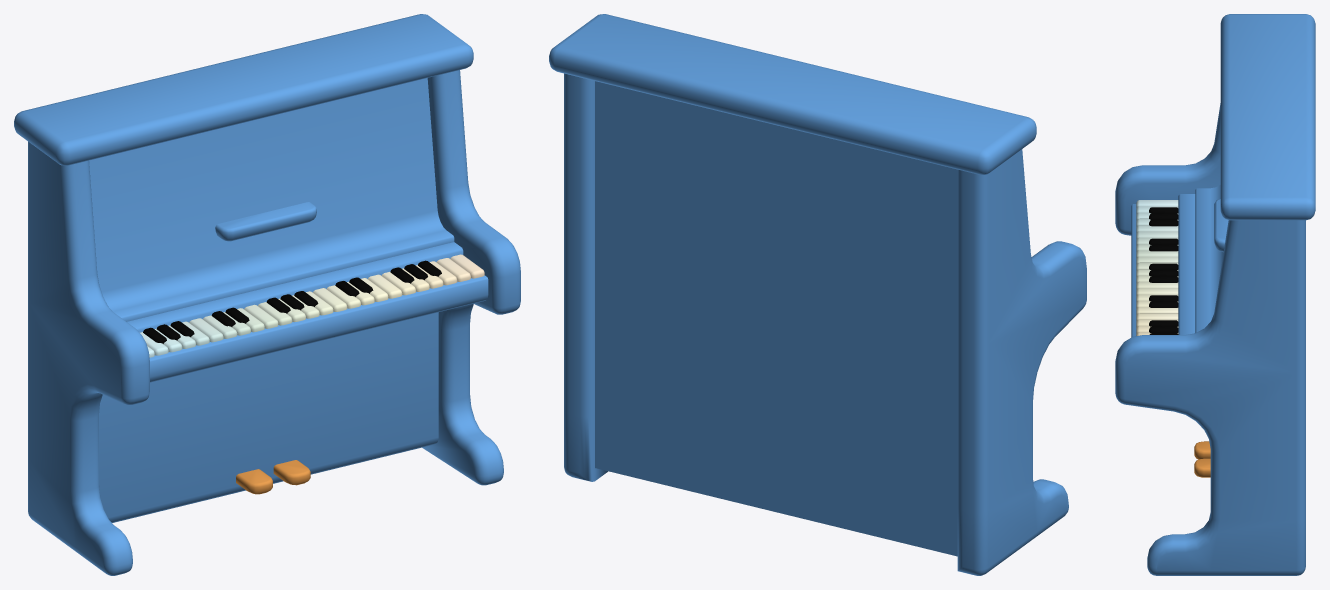
3 views of the same model, side by side, from view 1: azimuth 30°, elevation 25°; view 2: azimuth 150°, elevation 25°; view 3: azimuth 270°, elevation 25° (orthographic). The views are drawn at different scales.
Parts seen in each view (by area): view 1: Piano_01; view 2: Piano_01; view 3: Piano_01.
Part boxes in pixels (box(x1,y1,x2,y2)): Piano_01: box(14, 14, 520, 575); Piano_01: box(549, 14, 1086, 575); Piano_01: box(1115, 14, 1315, 575).
Size of the model in its own units: 1.53 by 1.43 by 0.6804.
4 materials, 1 textured.
